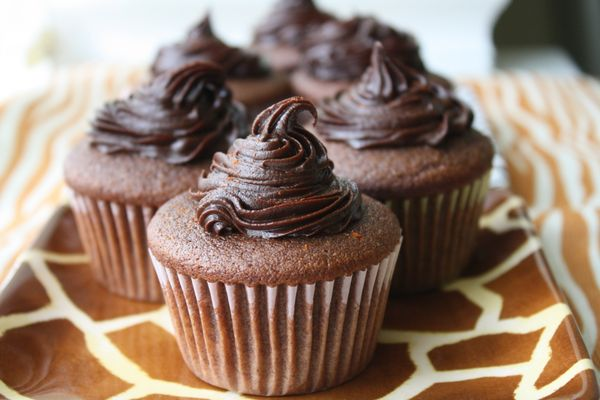sushi: (145, 96, 404, 394)
